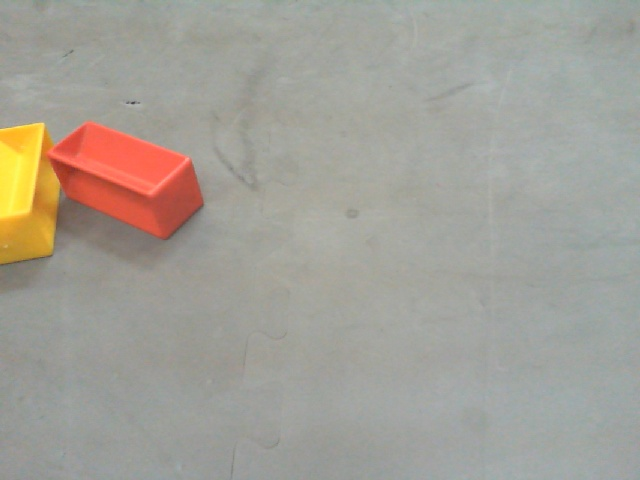RedSample: (44, 119, 204, 242)
YellowSample: (1, 115, 63, 261)
